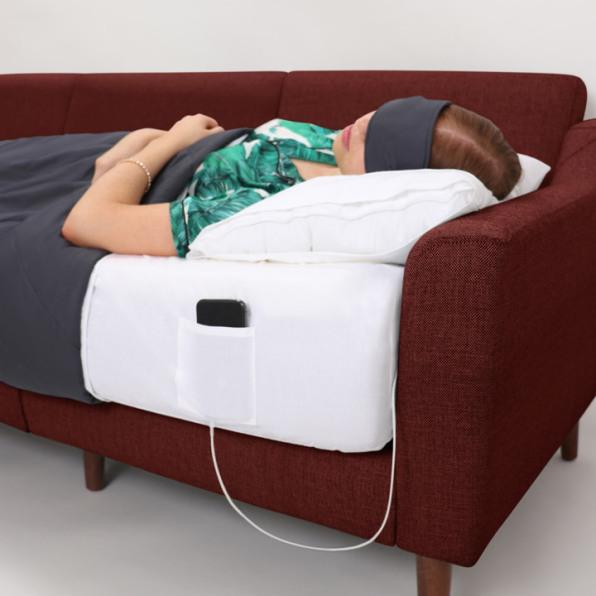WRONG: (333, 107, 460, 175)
